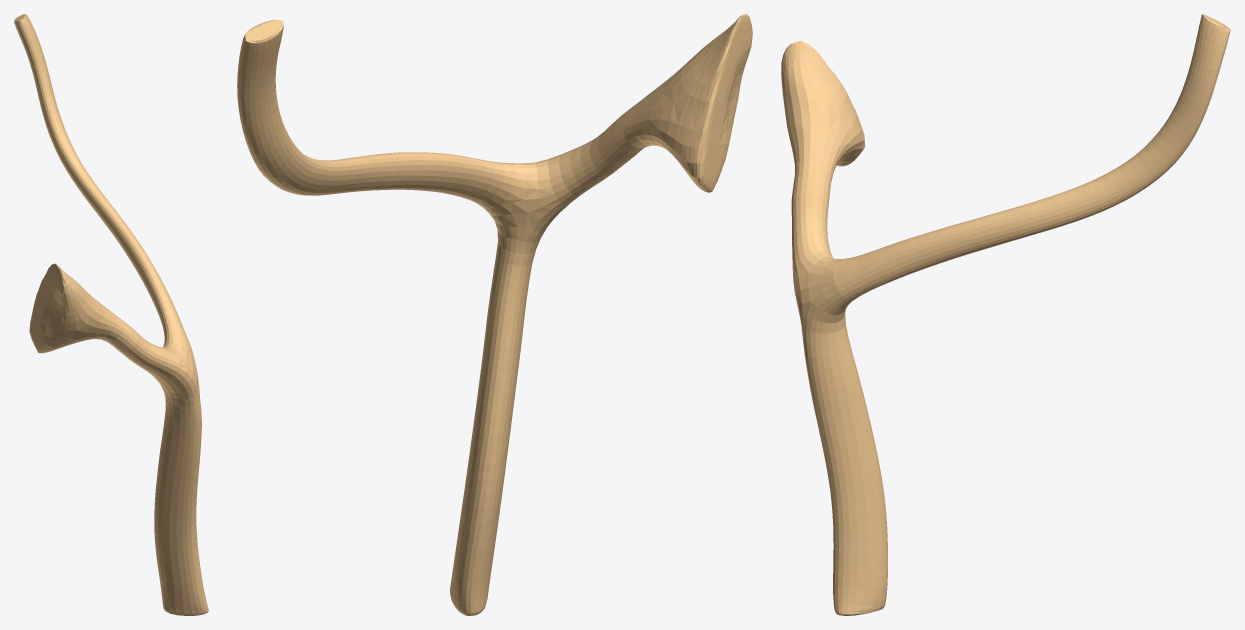
3 views of the same model, side by side, from view 1: azimuth 30°, elevation 25°; view 2: azimuth 150°, elevation 25°; view 3: azimuth 270°, elevation 25° (orthographic). The views are drawn at different scales.
Parts seen in each view (by area): view 1: N_C4; view 2: N_C4; view 3: N_C4.
Boxes of the visible parts, left/top/right/bottom form: N_C4: left=14, top=14, right=208, bottom=615; N_C4: left=237, top=14, right=752, bottom=615; N_C4: left=781, top=14, right=1230, bottom=615.
Size of the model in its own units: 0.000454 by 0.00125 by 0.000871.
